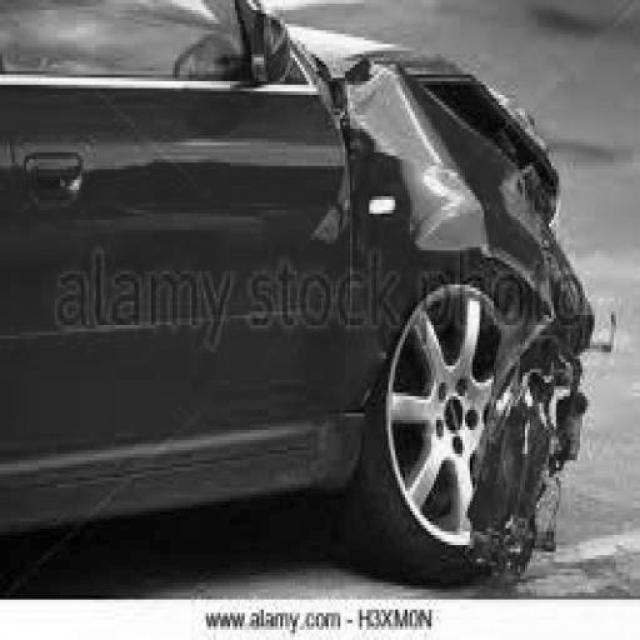car damage: (298, 21, 601, 577)
